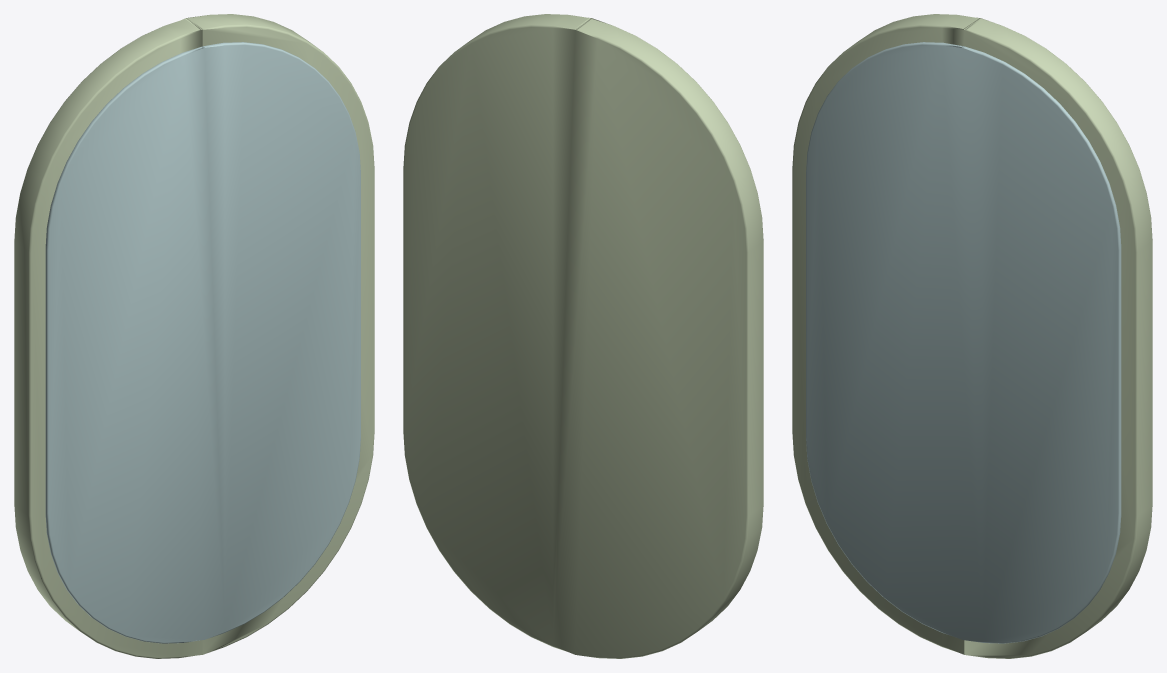
File: bath-mirror-pill.glb
3 renders of one model, left to right at view 1: azimuth 30°, elevation 25°; view 2: azimuth 150°, elevation 25°; view 3: azimuth 330°, elevation 25°, orthographic.
Parts seen in each view (by area): view 1: bath-mirror-pill; view 2: bath-mirror-pill; view 3: bath-mirror-pill.
Part boxes in pixels (<box>): bath-mirror-pill: <box>14,14,374,658</box>; bath-mirror-pill: <box>403,14,763,658</box>; bath-mirror-pill: <box>792,14,1152,658</box>.
Bounding box in the file's own units: 0.55 × 0.95 × 0.05.
